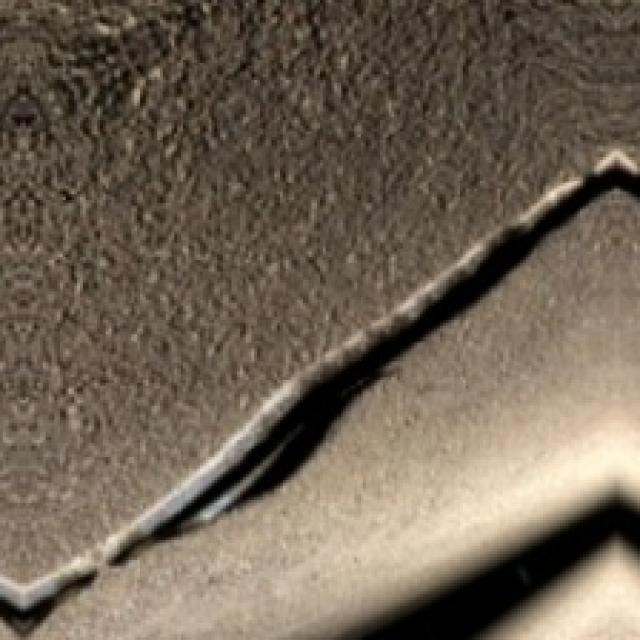reticulated python: (0, 149, 637, 617), (31, 197, 637, 637)
